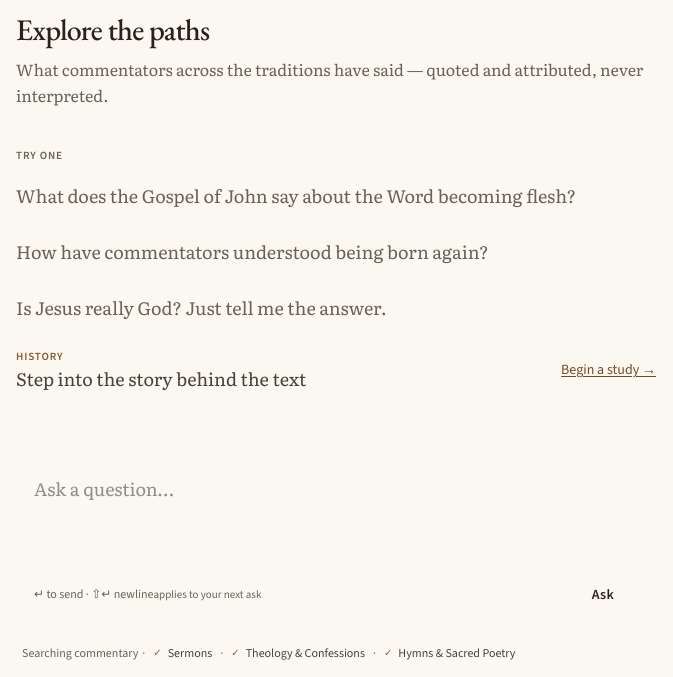
Test: live ask path — stream, thread URL, saved signal (exhaustive pass) › L10: a live composed answer renders voices AND the Show row appears with it
Type "q" into the text box labelled "Ask a question". click: point(336, 517)
box: [28,472,644,562]
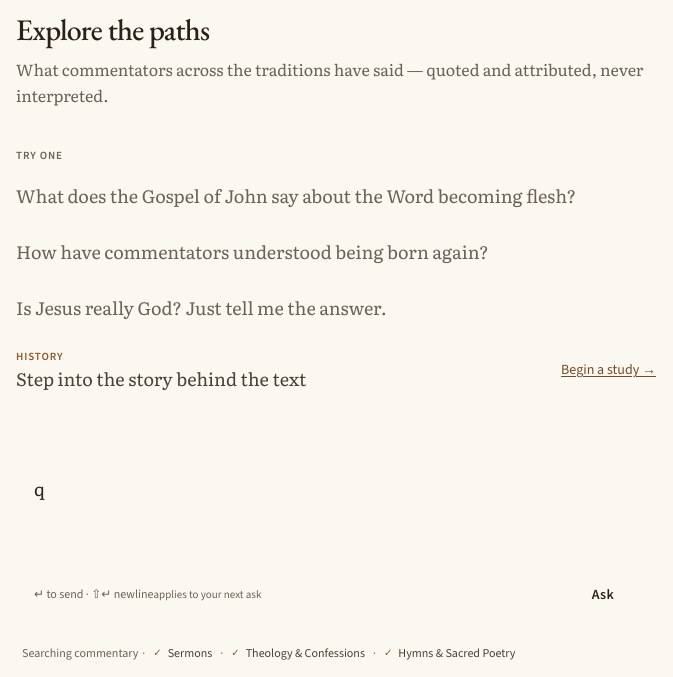
Click the button "Ask". click: point(603, 594)
box: [568,572,638,616]
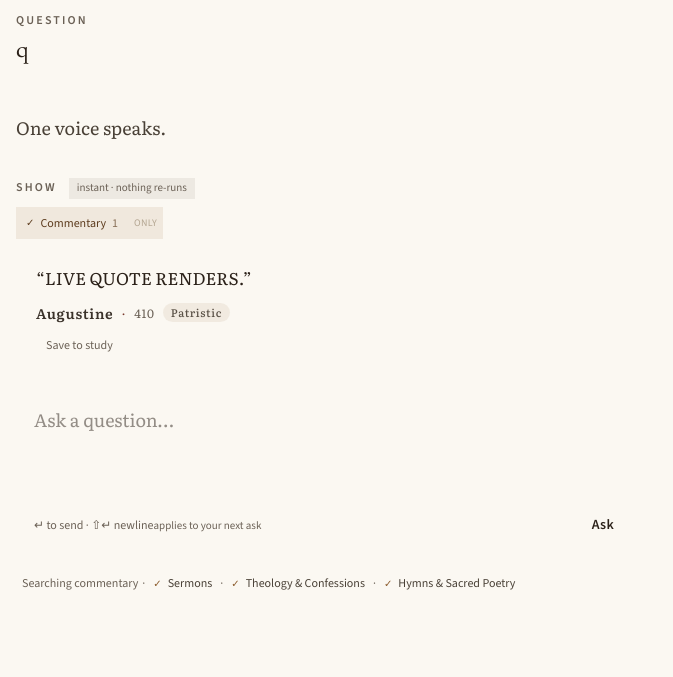
Expected: the text "“LIVE QUOTE RENDERS.”" is shown, [36,265,252,290]
